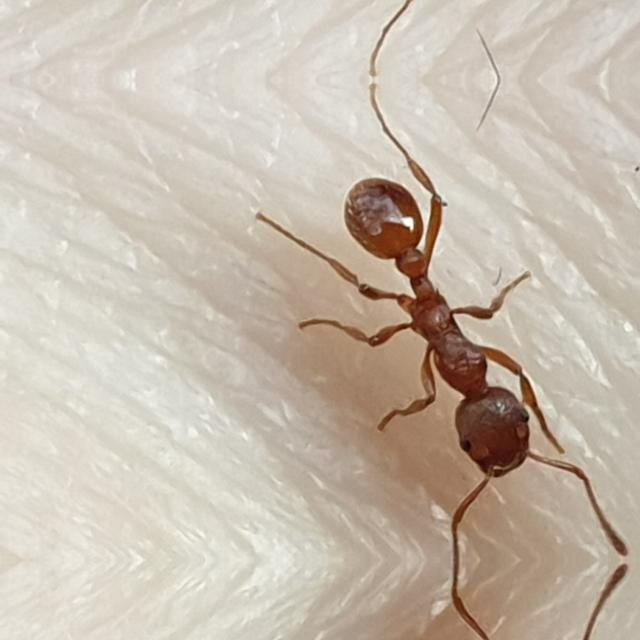Myrmica: (266, 125, 608, 531)
